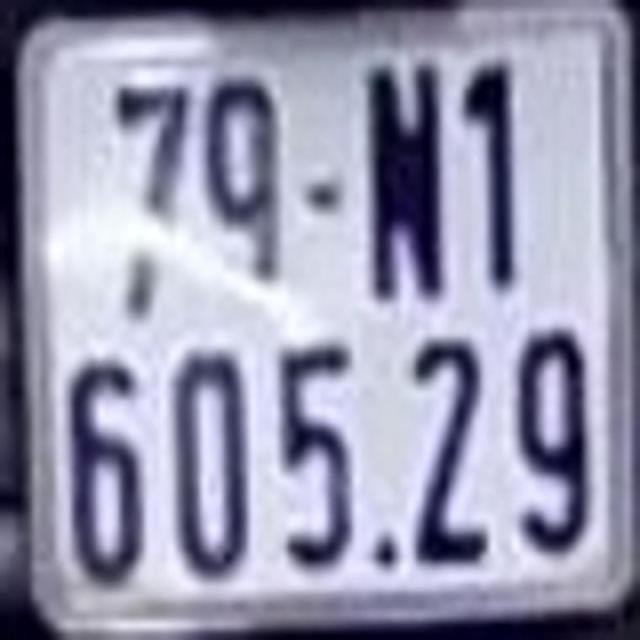0: (170, 338, 249, 578)
1: (461, 61, 528, 292)
2: (408, 332, 491, 567)
5: (276, 337, 355, 569)
6: (61, 338, 150, 584)
7: (113, 75, 194, 308)
9: (202, 63, 285, 315), (509, 336, 592, 555)
N: (360, 67, 455, 300)
